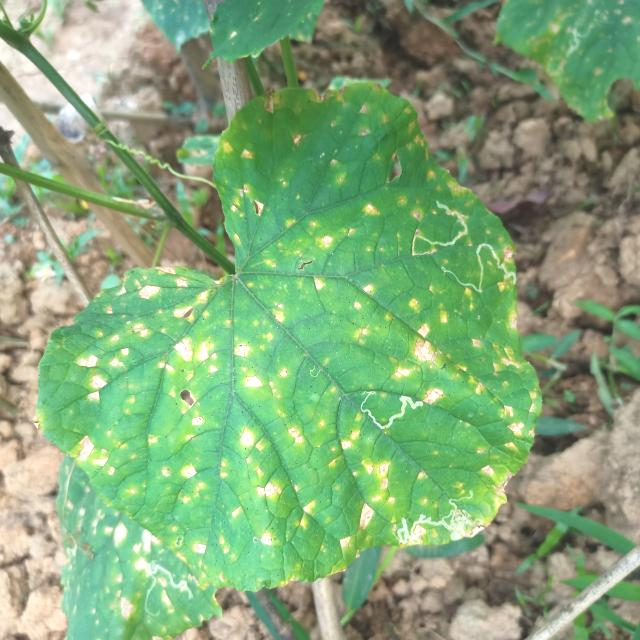disease_cucumber: (62, 114, 524, 566), (46, 482, 196, 626)
